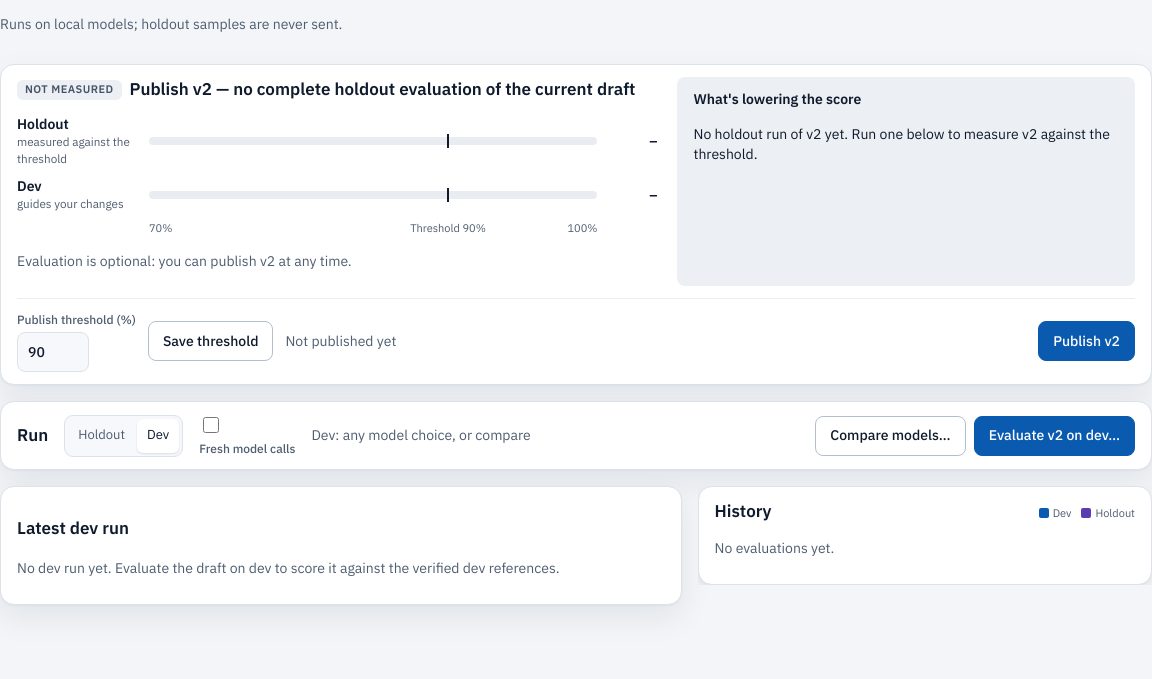
it: EvaluateTab › reports a failed history refresh while polling
The width and height of the screenshot is (1152, 679).
Click the button "Evaluate v2 on dev…".
click(1054, 436)  # box [974,416,1135,456]
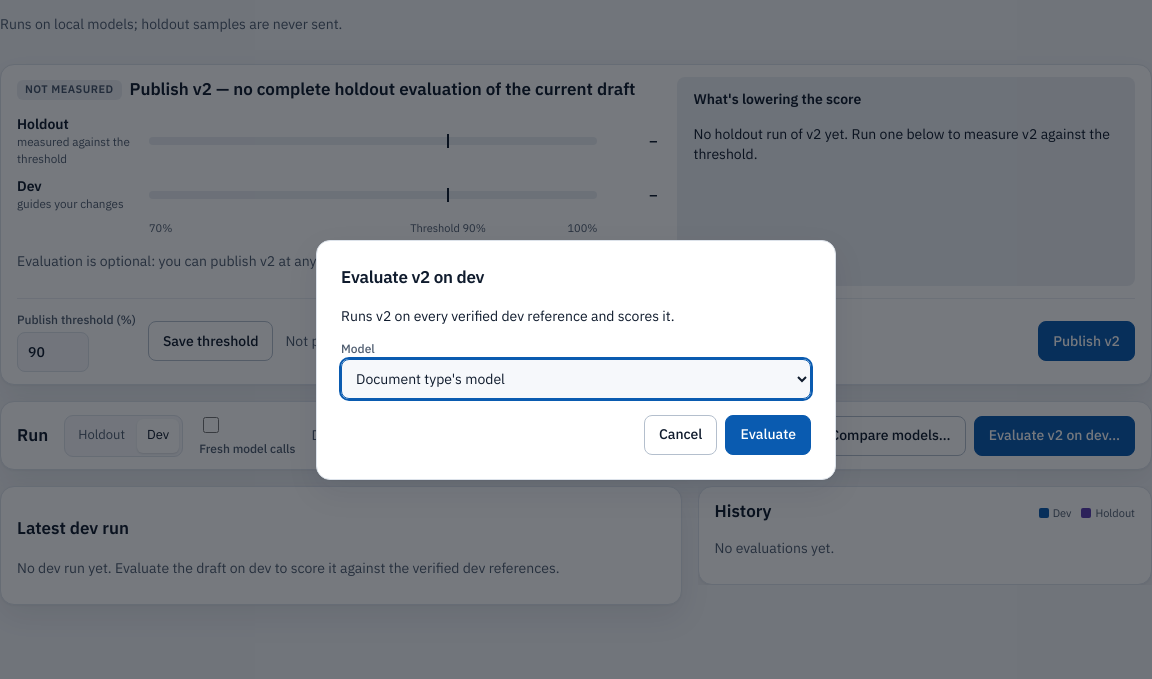
Click the button "Evaluate".
click(768, 435)  # box [725,415,811,455]
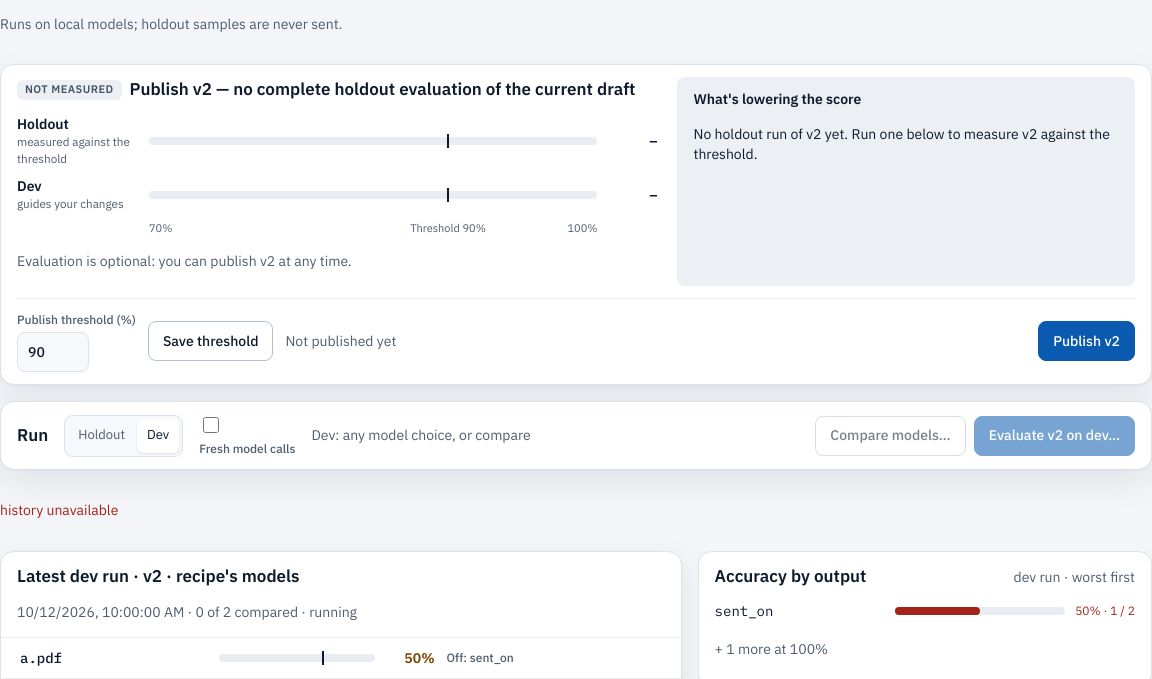
Check: the message reads "history unavailable", box [0,501,118,519]
